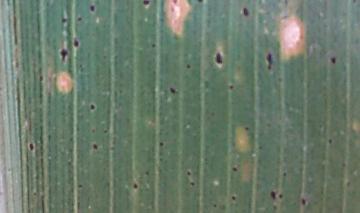tarspot: (211, 47, 226, 70), (54, 48, 72, 64), (263, 47, 275, 71), (164, 81, 180, 98), (326, 52, 341, 68), (226, 189, 240, 205), (238, 5, 253, 19), (70, 35, 83, 51), (26, 138, 37, 155), (86, 2, 99, 15), (273, 72, 287, 84), (183, 60, 196, 72), (141, 166, 153, 179), (343, 177, 353, 192), (35, 72, 47, 84), (268, 187, 277, 203), (156, 137, 167, 150), (225, 81, 238, 92), (100, 125, 111, 138), (207, 106, 218, 119), (325, 135, 336, 147), (66, 134, 78, 145), (89, 140, 99, 153), (187, 179, 200, 189), (297, 196, 310, 206), (139, 1, 153, 10), (228, 164, 242, 173), (58, 15, 70, 25), (74, 181, 86, 191), (183, 168, 195, 178), (130, 179, 139, 192), (241, 123, 254, 132), (87, 101, 97, 112), (73, 14, 85, 23), (278, 169, 291, 177), (149, 39, 158, 50), (209, 200, 221, 208), (278, 191, 286, 202), (169, 1, 181, 7), (192, 1, 209, 5)
